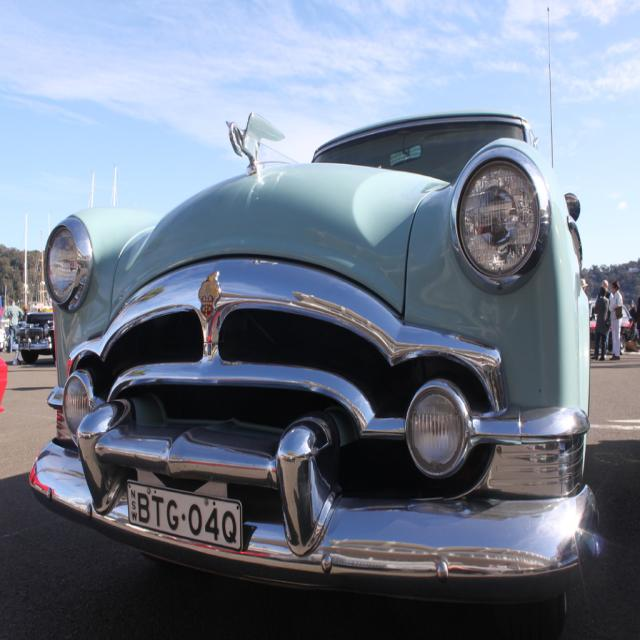car: (0, 65, 620, 619)
